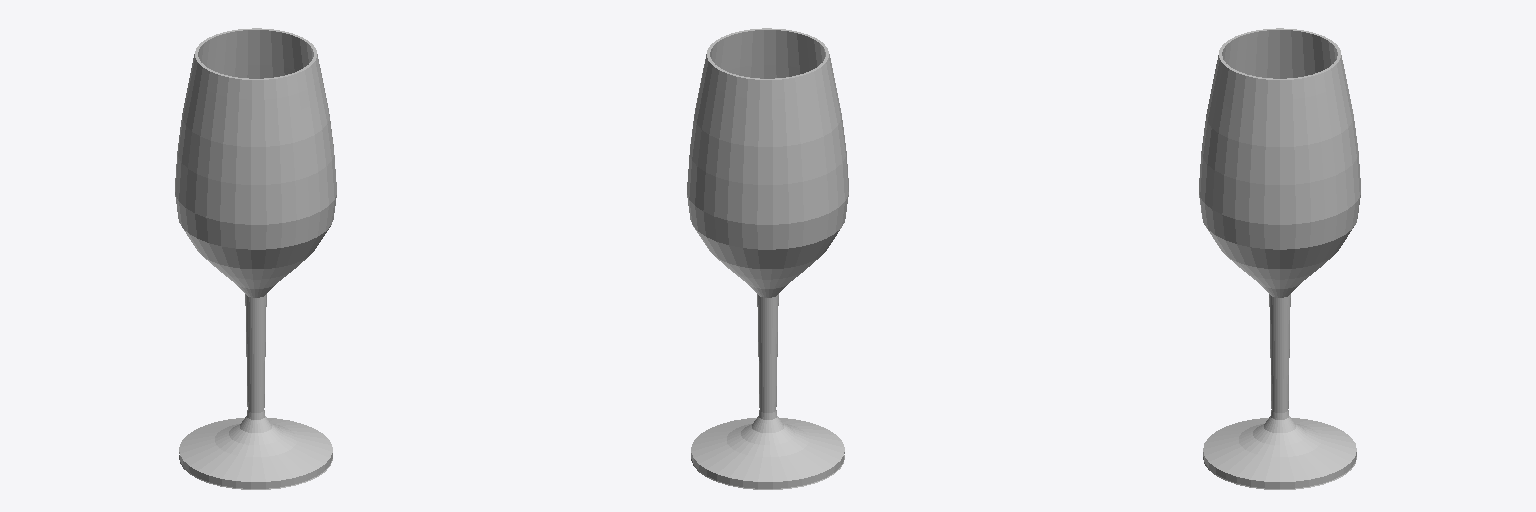
The model's file is Glass.obj.
3 renders of one model, left to right at view 1: azimuth 30°, elevation 25°; view 2: azimuth 150°, elevation 25°; view 3: azimuth 270°, elevation 25°, orthographic.
Visible parts, largest first — view 1: Circle; view 2: Circle; view 3: Circle.
Part boxes in pixels (bbox=[...]): Circle: bbox=[175, 28, 336, 489]; Circle: bbox=[687, 28, 848, 489]; Circle: bbox=[1199, 28, 1360, 489].
Size of the model in its own units: 0.2104 by 0.5752 by 0.2104.